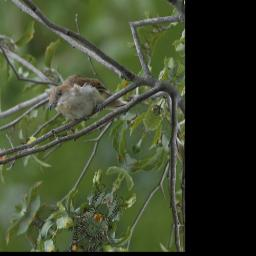Cuckoo: (43, 58, 130, 149)
